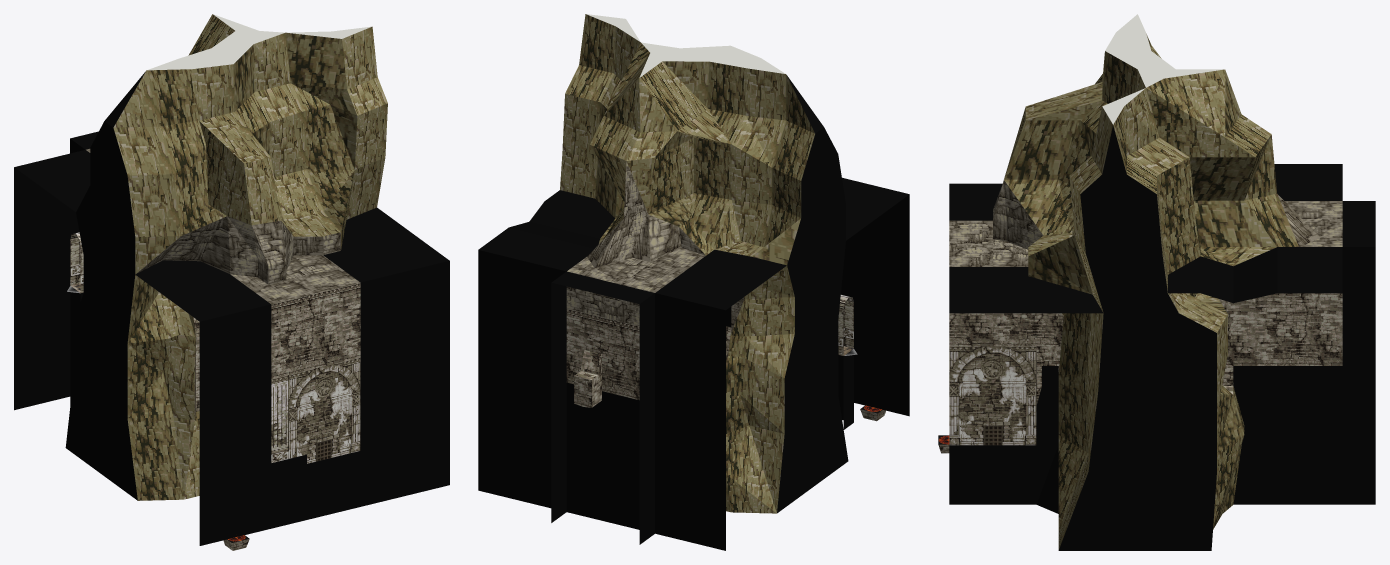
The model's file is MAP054.obj.
3 views of the same model, side by side, from view 1: azimuth 30°, elevation 25°; view 2: azimuth 150°, elevation 25°; view 3: azimuth 270°, elevation 25° (orthographic). The views are drawn at different scales.
Parts seen in each view (by area): view 1: mesh_46, mesh_55, mesh_56, mesh_57, mesh_40, mesh_34, mesh_47, mesh_51, mesh_64, mesh_65, mesh_48, mesh_74 (+3 smaller); view 2: mesh_46, mesh_54, mesh_57, mesh_56, mesh_40, mesh_41, mesh_51, mesh_53, mesh_47, mesh_48, mesh_17, mesh_59 (+2 smaller); view 3: mesh_46, mesh_24, mesh_51, mesh_53, mesh_48, mesh_47, mesh_26, mesh_54, mesh_61, mesh_55, mesh_21, mesh_23 (+8 smaller).
Boxes of the visible parts, x1,y1,x2,y2 form: mesh_46: [113, 14, 387, 274]; mesh_55: [323, 207, 449, 506]; mesh_56: [135, 260, 271, 545]; mesh_57: [14, 150, 90, 410]; mesh_40: [65, 212, 135, 492]; mesh_34: [127, 275, 199, 500]; mesh_47: [86, 148, 359, 304]; mesh_51: [70, 292, 360, 528]; mesh_64: [289, 357, 360, 449]; mesh_65: [271, 295, 360, 378]; mesh_48: [76, 71, 145, 236]; mesh_74: [147, 14, 371, 70]; mesh_46: [560, 14, 814, 265]; mesh_54: [478, 190, 615, 508]; mesh_57: [655, 249, 786, 550]; mesh_56: [840, 177, 909, 416]; mesh_40: [777, 204, 845, 513]; mesh_41: [726, 265, 794, 513]; mesh_51: [566, 355, 853, 529]; mesh_53: [551, 271, 654, 544]; mesh_47: [567, 161, 705, 292]; mesh_48: [787, 75, 845, 264]; mesh_17: [566, 345, 639, 407]; mesh_59: [566, 308, 639, 363]; mesh_46: [1004, 34, 1298, 312]; mesh_24: [1058, 293, 1216, 550]; mesh_51: [949, 366, 1342, 513]; mesh_53: [1342, 201, 1375, 504]; mesh_48: [1080, 125, 1167, 312]; mesh_47: [949, 180, 1342, 266]; mesh_26: [1058, 313, 1103, 549]; mesh_54: [1168, 247, 1342, 303]; mesh_61: [949, 346, 1036, 425]; mesh_55: [949, 267, 1103, 313]; mesh_21: [1168, 293, 1244, 529]; mesh_23: [1222, 326, 1342, 394].
Bounding box in the file's own units: 179 × 282 × 256.
Materials: 16 (16 with a texture image).
